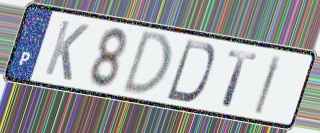8: (88, 26, 130, 91)
D: (119, 29, 173, 97), (163, 38, 217, 105)
I: (252, 53, 285, 117)
K: (42, 17, 92, 84)
T: (220, 48, 261, 110)
